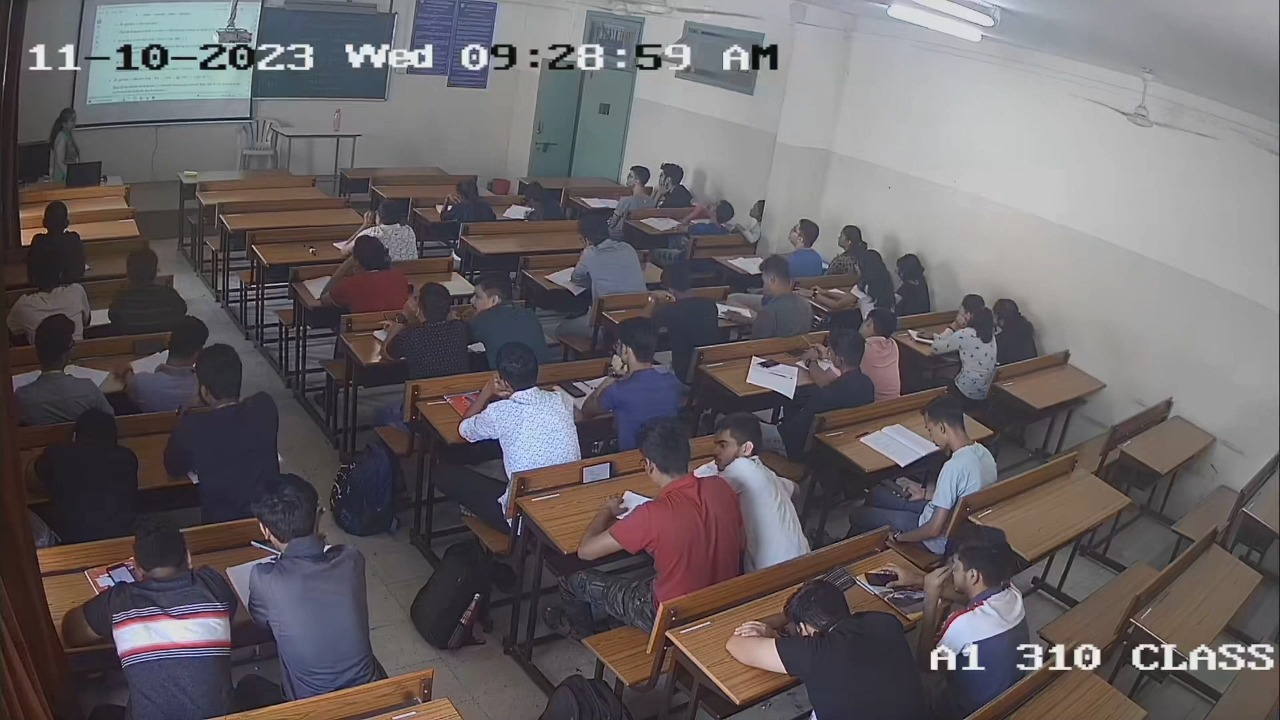cell-phones: (878, 477, 912, 501), (580, 460, 612, 484), (107, 562, 137, 584), (865, 571, 900, 588), (556, 380, 587, 398), (783, 347, 808, 358), (757, 359, 781, 368)
person: (104, 515, 240, 708), (921, 526, 1030, 681), (623, 416, 719, 591), (589, 317, 677, 446), (911, 396, 999, 524), (800, 328, 874, 414), (856, 305, 901, 403)
